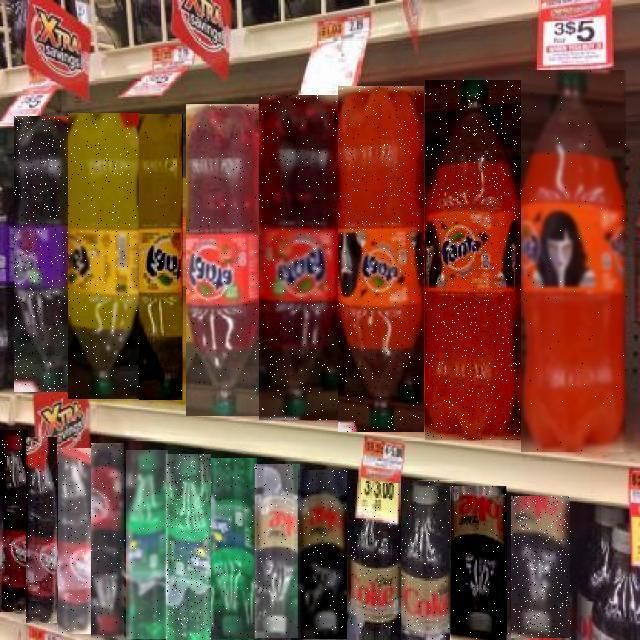Drinks: (522, 70, 628, 452), (425, 80, 521, 440), (338, 86, 424, 432), (259, 95, 338, 420), (186, 104, 260, 416), (68, 113, 140, 399), (15, 116, 69, 392), (140, 115, 186, 401), (402, 480, 456, 640), (454, 486, 510, 640), (512, 497, 572, 639), (349, 484, 403, 640), (166, 454, 211, 640), (211, 458, 257, 639), (298, 470, 347, 639), (126, 450, 168, 639), (255, 465, 300, 639), (92, 444, 126, 640), (58, 448, 91, 634), (26, 437, 57, 623), (0, 431, 28, 613)
